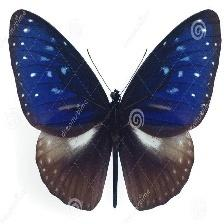butterfly: (10, 10, 222, 211)
